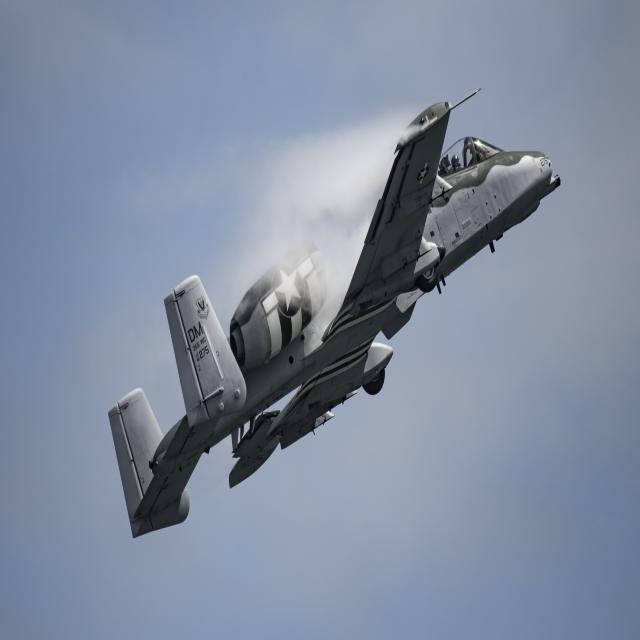MIL_Plane: (108, 87, 560, 539)
